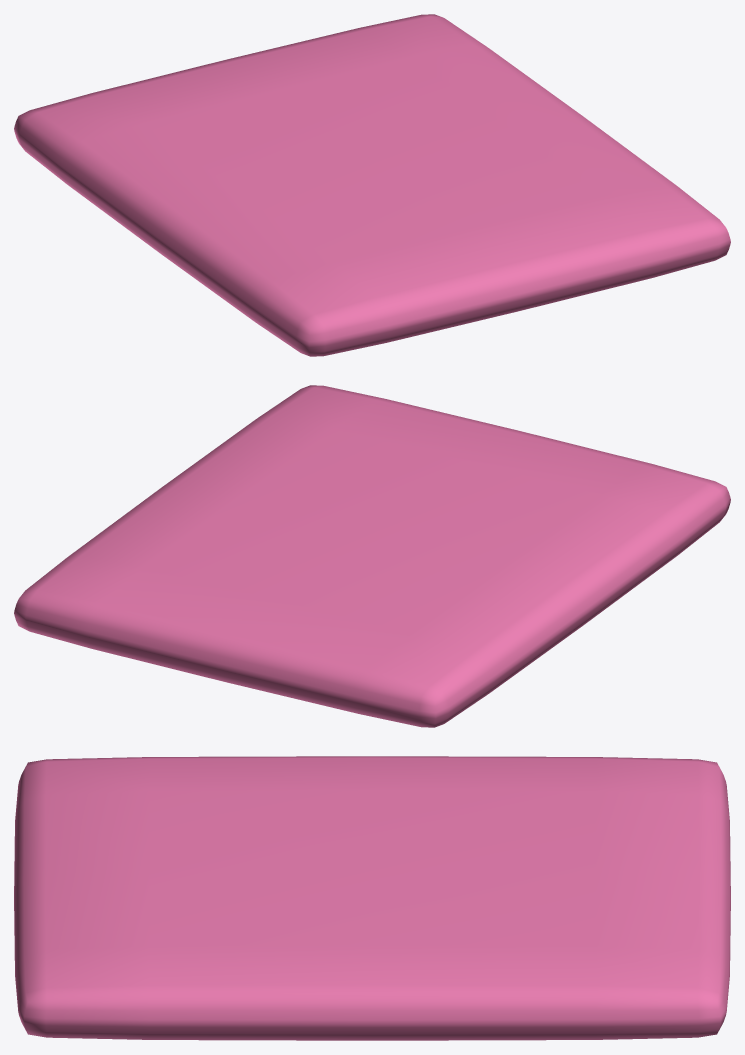
The model's file is Cushion_Low.fbx.
The picture shows the model from 3 angles, top to bottom: view 1: azimuth 30°, elevation 25°; view 2: azimuth 150°, elevation 25°; view 3: azimuth 270°, elevation 25°; orthographic projection. The views are drawn at different scales.
Parts seen in each view (by area): view 1: SeatCushion.001; view 2: SeatCushion.001; view 3: SeatCushion.001.
Part boxes in pixels (box(x1,y1,x2,y2)): SeatCushion.001: box(14, 14, 730, 356); SeatCushion.001: box(14, 385, 730, 727); SeatCushion.001: box(14, 756, 730, 1040).
Bounding box in the file's own units: 37.15 × 4.39 × 44.75.
